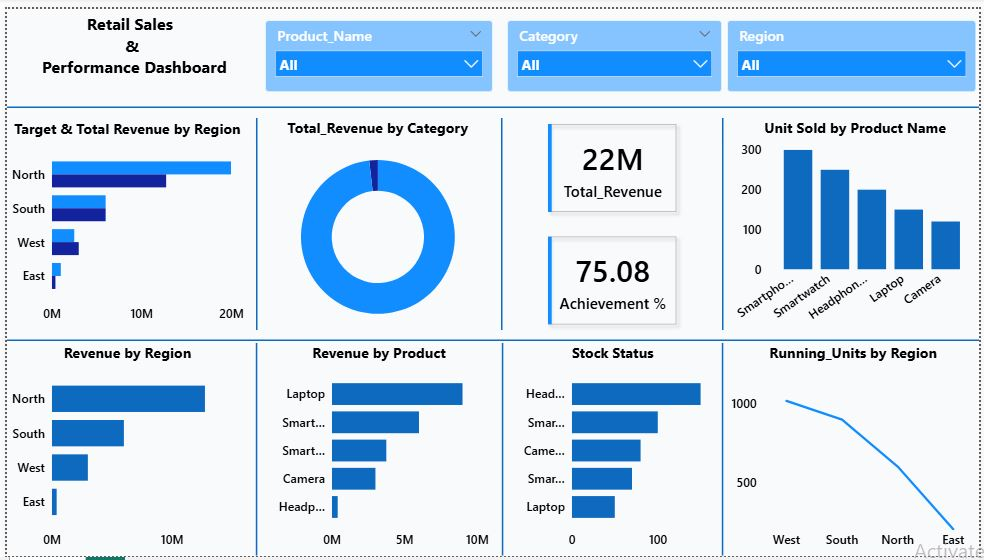

The page's visual inventory and layout, read from the dashboard file:
{"tool":"powerbi","page":{"name":"Page 1","canvas":[1280,720],"ordinal":0},"visuals":[{"type":"cardVisual","fields":{"Data":["Retail_Sales_Data_Table.Total_Revenue","Retail_Sales_Data_Table.Achievement_Percentage"]},"box":[760.3,0,519.8,151.2],"z":0},{"type":"barChart","title":"Revenue by Region","fields":{"Category":["Retail_Sales_Data_Table.Region"],"Y":["Retail_Sales_Data_Table.Region_Revenue"]},"box":[0,440.4,429.4,279.4],"z":1000},{"type":"barChart","title":"Revenue by Product","fields":{"Category":["Retail_Sales_Data_Table.Product_Name"],"Y":["Retail_Sales_Data_Table.Total_Revenue"]},"box":[458.3,440.4,429.4,279.4],"z":2000},{"type":"shape","box":[445.9,440.4,12.4,279.4],"z":3000},{"type":"shape","box":[898.8,440.4,12.4,279.4],"z":4000},{"type":"barChart","title":"Stock Status","fields":{"Category":["Retail_Sales_Data_Table.Product_Name"],"Y":["Sum(Retail_Sales_Data_Table.Inventory_Stock)"]},"box":[911.1,440.4,368.9,279.4],"z":5000},{"type":"shape","box":[0,432.2,1280,8.3],"z":5001},{"type":"clusteredBarChart","title":"Target & Total Revenue by Region","fields":{"Y":["Sum(Retail_Sales_Data_Table.Target_Revenue)","Retail_Sales_Data_Table.Total_Revenue"],"Category":["Retail_Sales_Data_Table.Region"]},"box":[0,133.9,452.2,288],"z":5002},{"type":"shape","box":[440.6,142.6,23,279.4],"z":5003}]}

Visuals, with their boxes on the page's 1280x720 design canvas (x1, y1, x2, y2). These are canvas units, not pixel positions in the 984x560 screenshot, which may show the page scaled, cropped or inside an application window:
cardVisual - Retail_Sales_Data_Table.Total_Revenue x Retail_Sales_Data_Table.Achievement_Percentage: bbox=(760, 0, 1280, 151)
"Revenue by Region" barChart: bbox=(0, 440, 429, 720)
"Revenue by Product" barChart: bbox=(458, 440, 888, 720)
shape: bbox=(446, 440, 458, 720)
shape: bbox=(899, 440, 911, 720)
"Stock Status" barChart: bbox=(911, 440, 1280, 720)
shape: bbox=(0, 432, 1280, 440)
"Target & Total Revenue by Region" clusteredBarChart: bbox=(0, 134, 452, 422)
shape: bbox=(441, 143, 464, 422)
